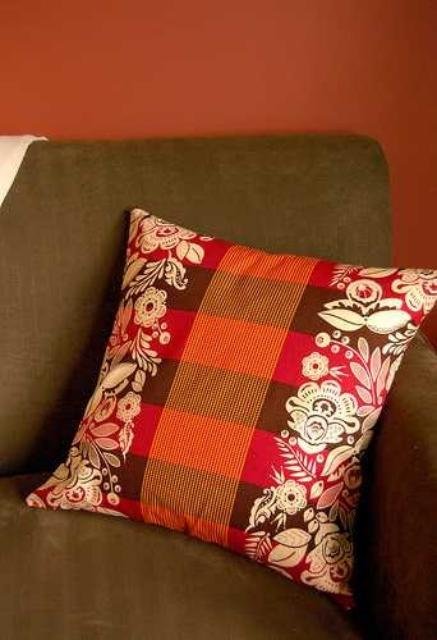pillow: (23, 204, 436, 612)
